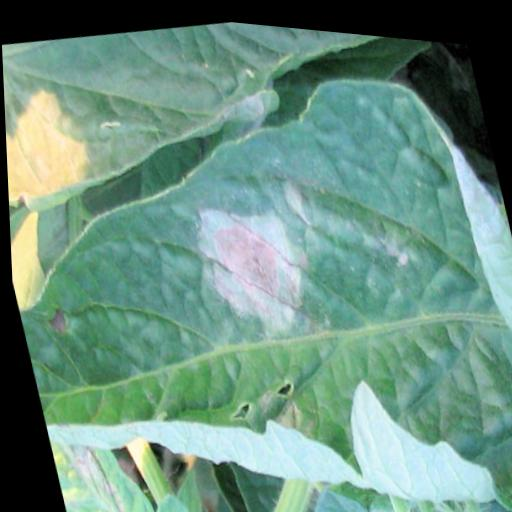Late Blight: (1, 18, 512, 512)
